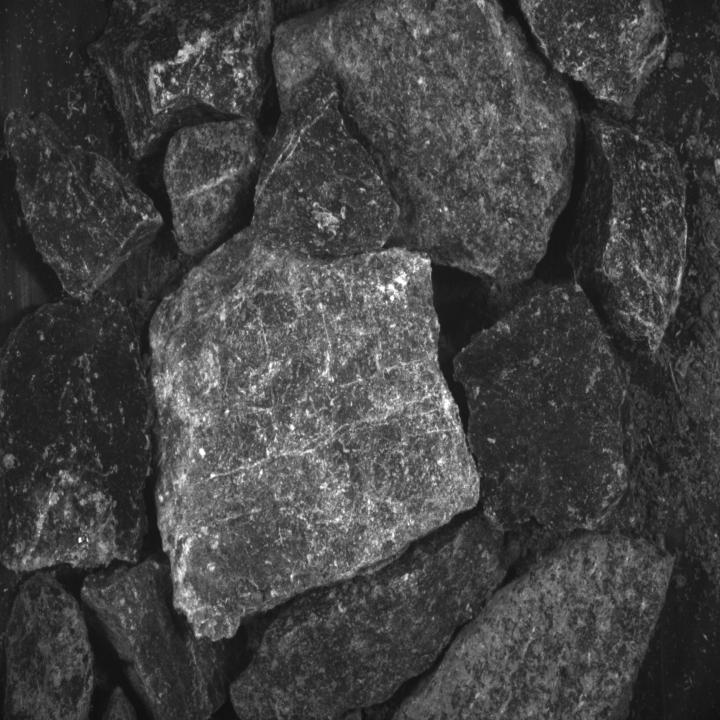stone: (182, 185, 514, 604), (272, 0, 580, 285), (230, 518, 509, 719), (393, 530, 675, 720), (0, 286, 154, 574), (452, 283, 630, 532), (3, 109, 163, 300), (87, 0, 273, 162), (567, 110, 688, 356), (80, 549, 242, 720), (252, 71, 400, 256), (517, 0, 668, 120), (164, 117, 267, 260), (3, 571, 92, 720), (101, 687, 138, 720)
